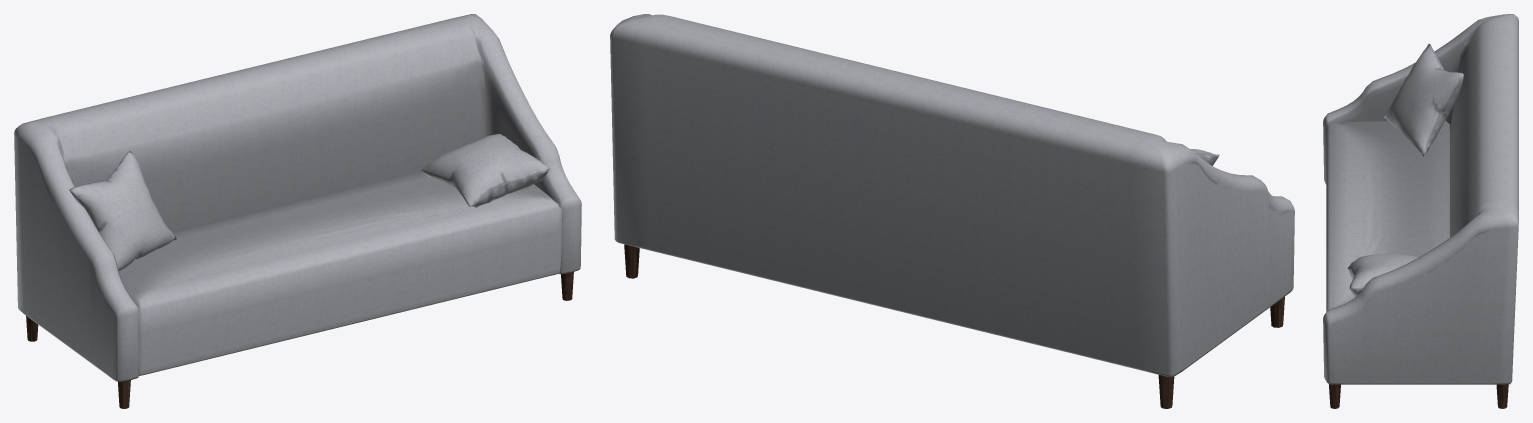
The model's file is Sofa02.fbx.
The picture shows the model from 3 angles, left to right: view 1: azimuth 30°, elevation 25°; view 2: azimuth 150°, elevation 25°; view 3: azimuth 270°, elevation 25°; orthographic projection. The views are drawn at different scales.
Visible parts, largest first — view 1: Sofa; view 2: Sofa; view 3: Sofa.
Boxes of the visible parts, x1=… form: Sofa: x1=14, y1=14, x2=581, y2=408; Sofa: x1=610, y1=14, x2=1294, y2=408; Sofa: x1=1323, y1=14, x2=1518, y2=408.
Size of the model in its own units: 2.11 by 0.9373 by 0.8424.
